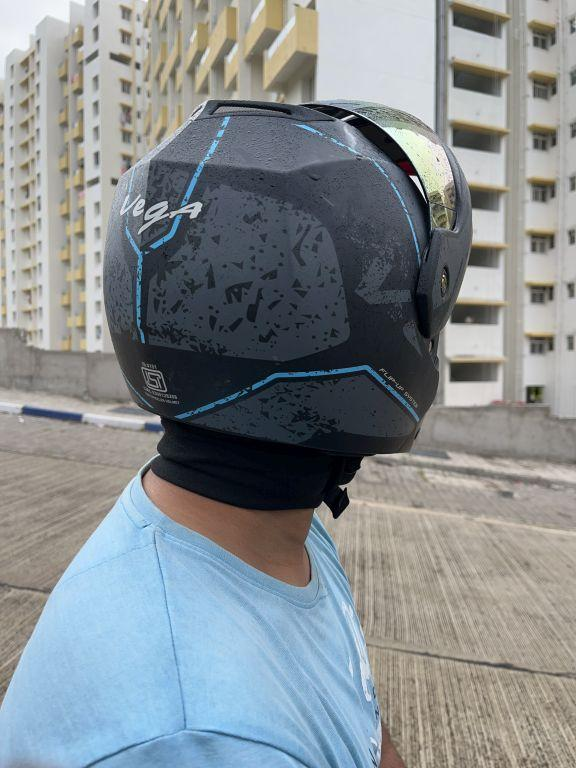helmet: (94, 80, 481, 491)
